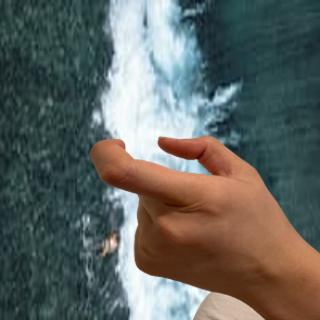HATE: (85, 129, 296, 302)
